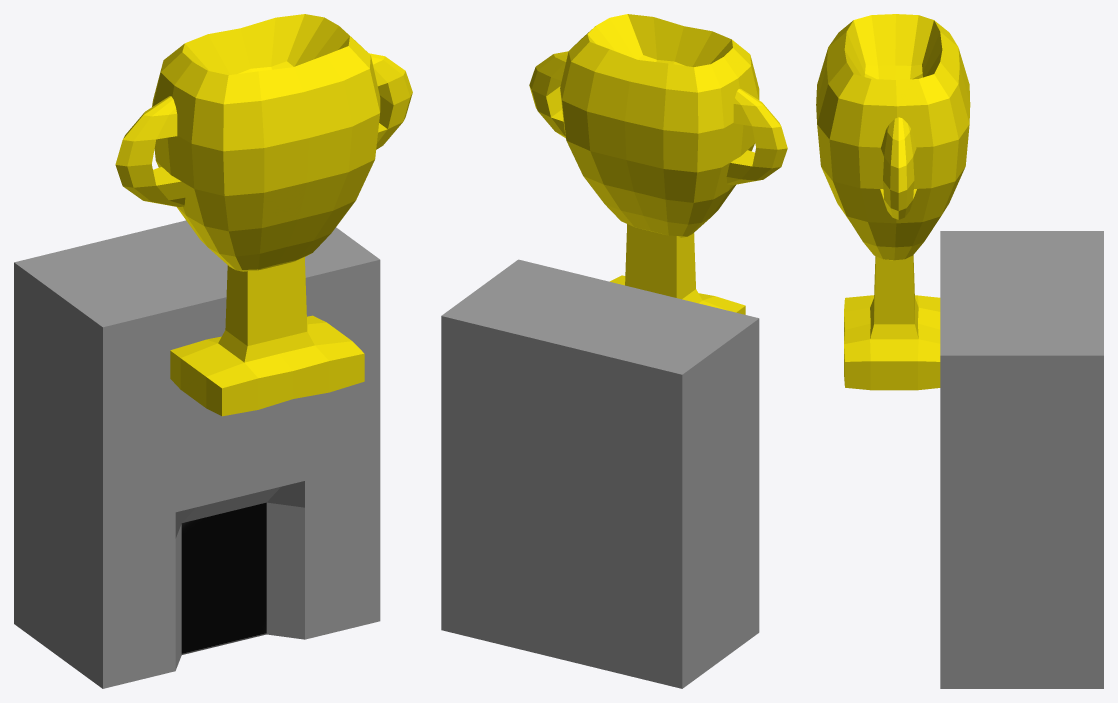
File: trofeu.fbx
3 renders of one model, left to right at view 1: azimuth 30°, elevation 25°; view 2: azimuth 150°, elevation 25°; view 3: azimuth 270°, elevation 25°, orthographic. The views are drawn at different scales.
Parts seen in each view (by area): view 1: Cube.004, Cube.005; view 2: Cube.004, Cube.005; view 3: Cube.004, Cube.005.
Boxes of the visible parts, x1=… form: Cube.004: x1=14, y1=220, x2=380, y2=688; Cube.005: x1=115, y1=14, x2=412, y2=416; Cube.004: x1=441, y1=259, x2=759, y2=688; Cube.005: x1=529, y1=14, x2=787, y2=314; Cube.004: x1=940, y1=231, x2=1103, y2=688; Cube.005: x1=816, y1=14, x2=970, y2=390.
Size of the model in its own units: 611 by 1234 by 555.
